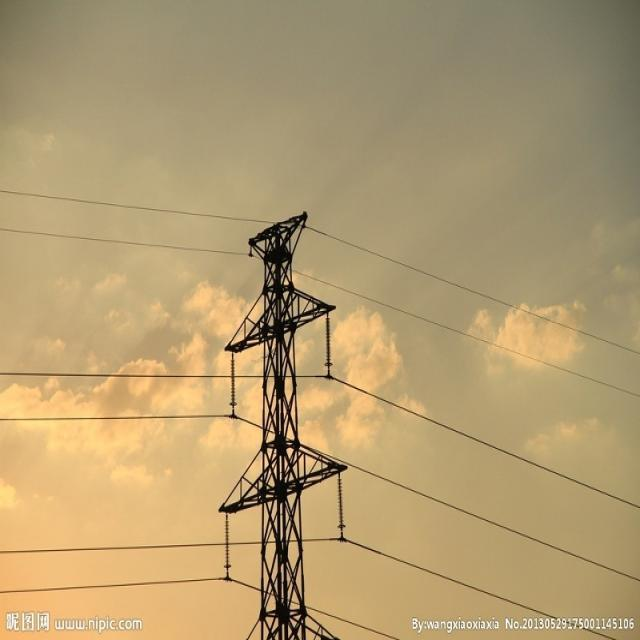non-critical vegetation: (213, 218, 348, 636)
